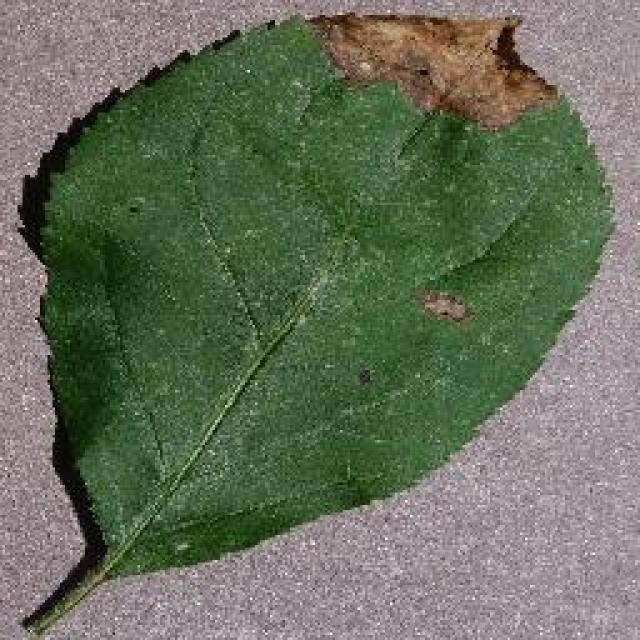apple black rot: (12, 5, 618, 633)
